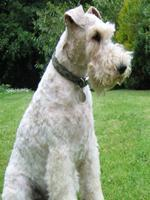wire-haired_fox_terrier: (0, 1, 137, 199)
